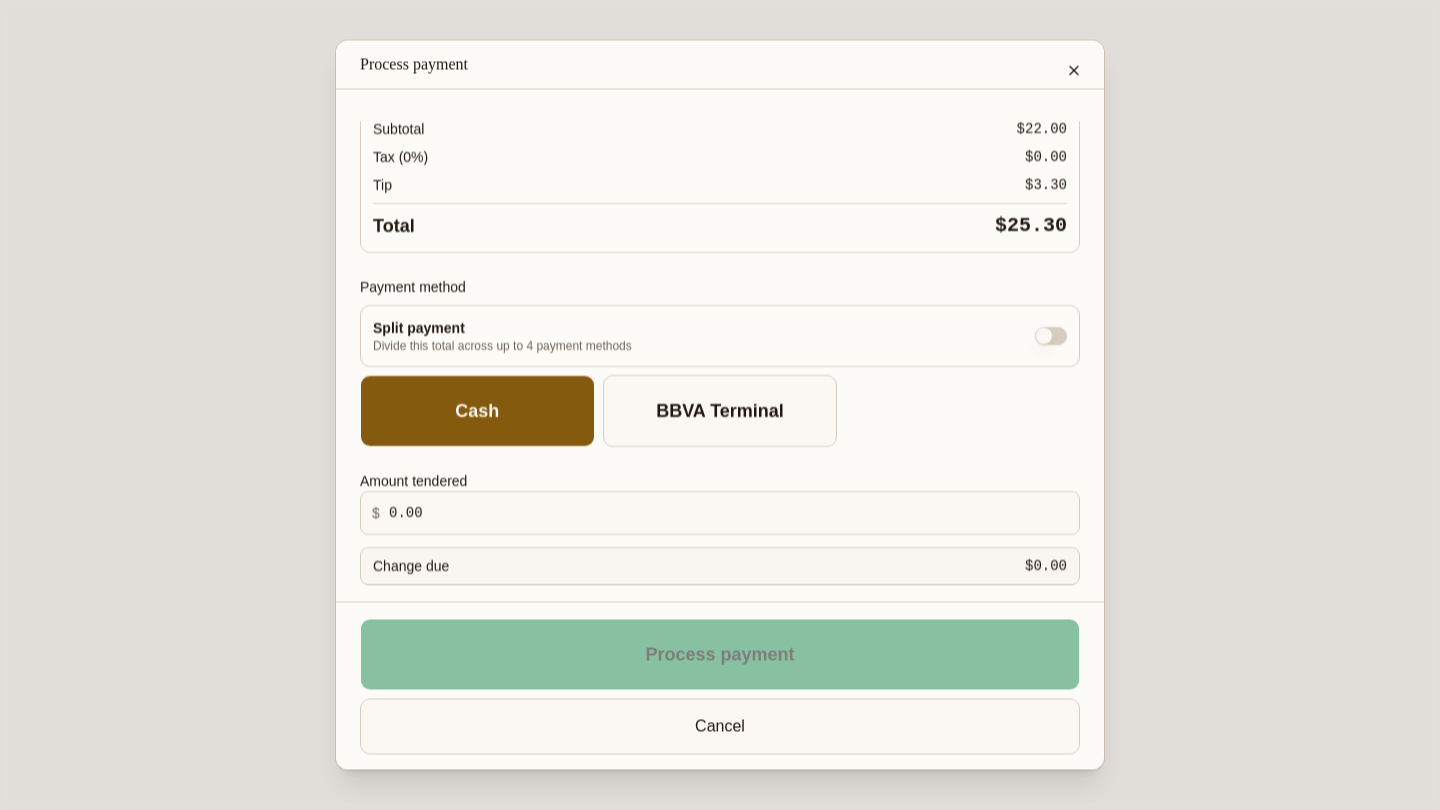
Test: PaymentModal › shows change due for cash tendered above total
This screenshot has width=1440, height=810.
(page scrolled)
Type "40.00" into the field labelled "Amount tendered". click: (720, 514)
box: [360,492,1080,536]
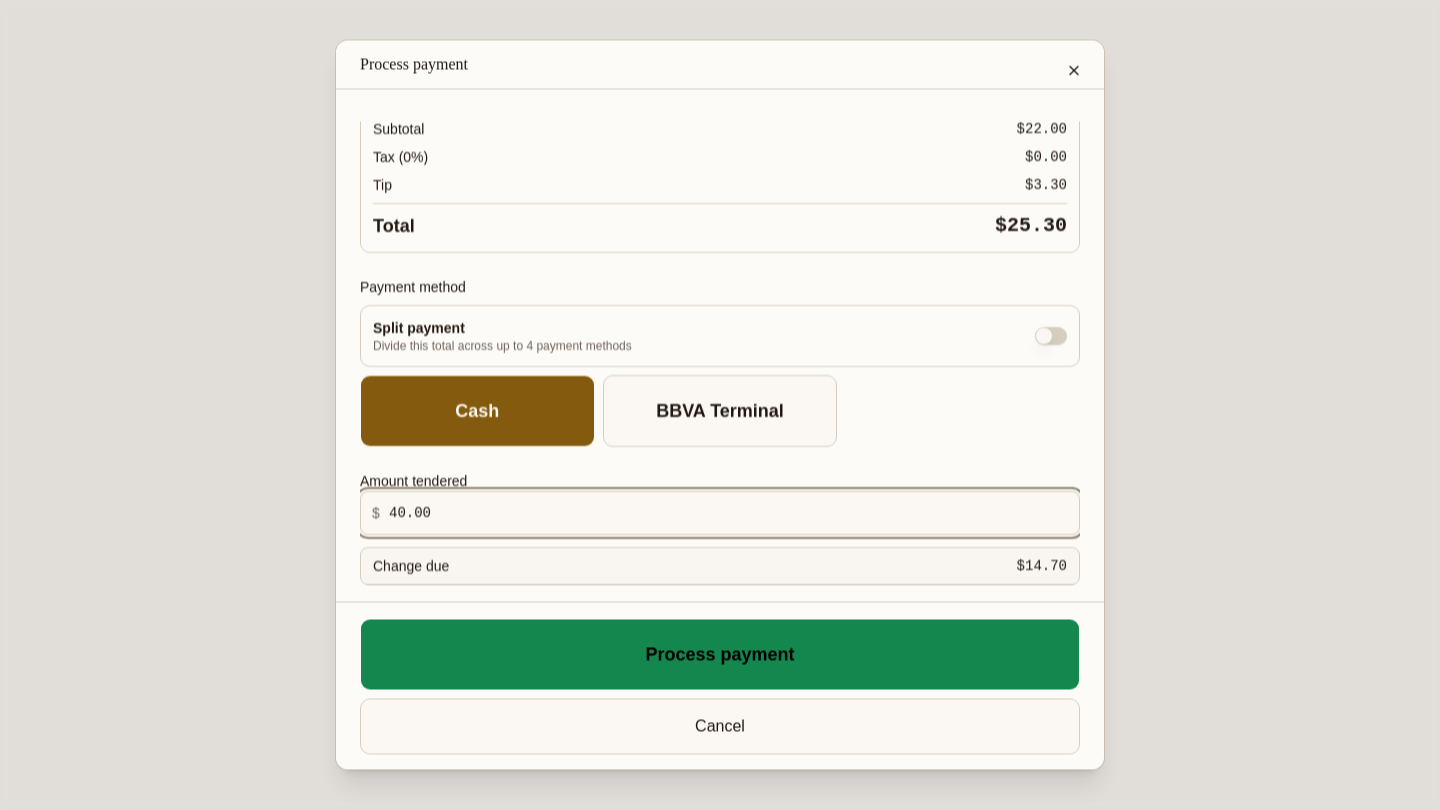
Expected: the text "Change due" is shown, [373,556,449,576]
Now the text named "$14.70 dollars" is shown, box [1017,556,1067,576]
